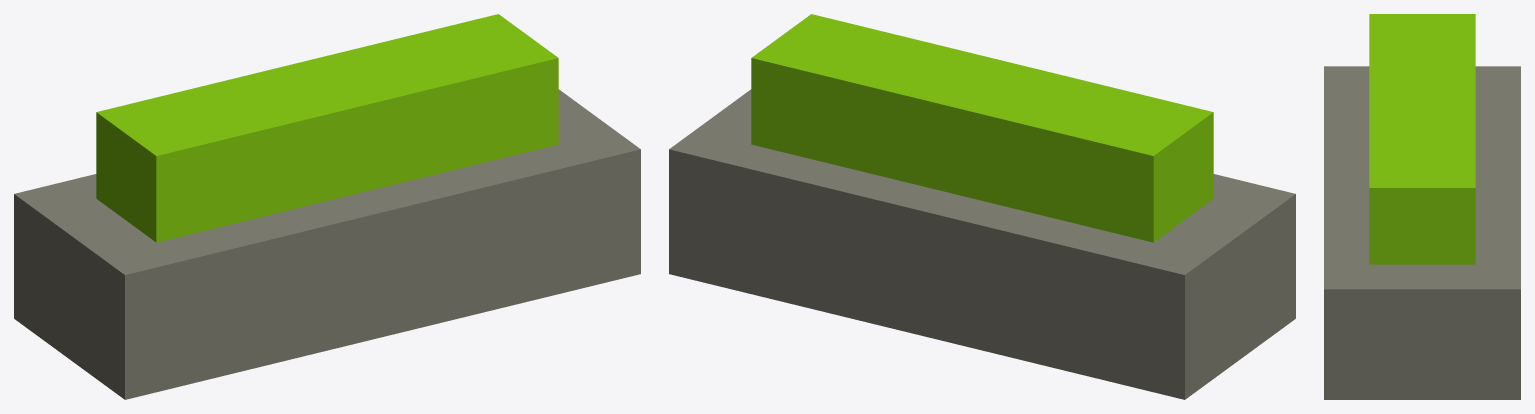
Rendered from adorn plant1.FBX.
3 views of the same model, side by side, from view 1: azimuth 30°, elevation 25°; view 2: azimuth 150°, elevation 25°; view 3: azimuth 270°, elevation 25° (orthographic). The views are drawn at different scales.
Visible parts, largest first — view 1: adorn plant1; view 2: adorn plant1; view 3: adorn plant1.
Boxes of the visible parts, x1,y1,x2,y2 form: adorn plant1: (14,14,640,399); adorn plant1: (669,14,1295,399); adorn plant1: (1324,14,1520,399).
Bounding box in the file's own units: 4.44 × 1.74 × 1.66.
